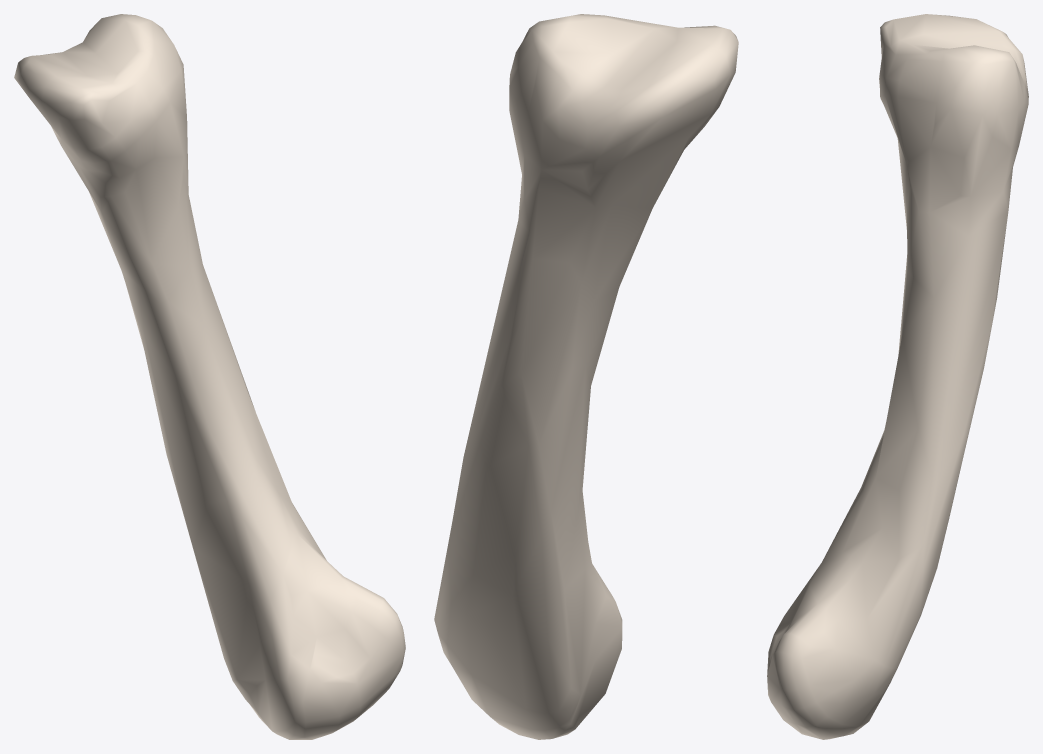
File: left_metacarpal_2.glb
3 views of the same model, side by side, from view 1: azimuth 30°, elevation 25°; view 2: azimuth 150°, elevation 25°; view 3: azimuth 270°, elevation 25° (orthographic). The views are drawn at different scales.
Parts seen in each view (by area): view 1: 2nd metacarpal bone.r; view 2: 2nd metacarpal bone.r; view 3: 2nd metacarpal bone.r.
Boxes of the visible parts, x1=… form: 2nd metacarpal bone.r: x1=14, y1=14, x2=405, y2=739; 2nd metacarpal bone.r: x1=434, y1=14, x2=738, y2=739; 2nd metacarpal bone.r: x1=767, y1=14, x2=1028, y2=739.
Size of the model in its own units: 0.0315 by 0.0698 by 0.0258.
